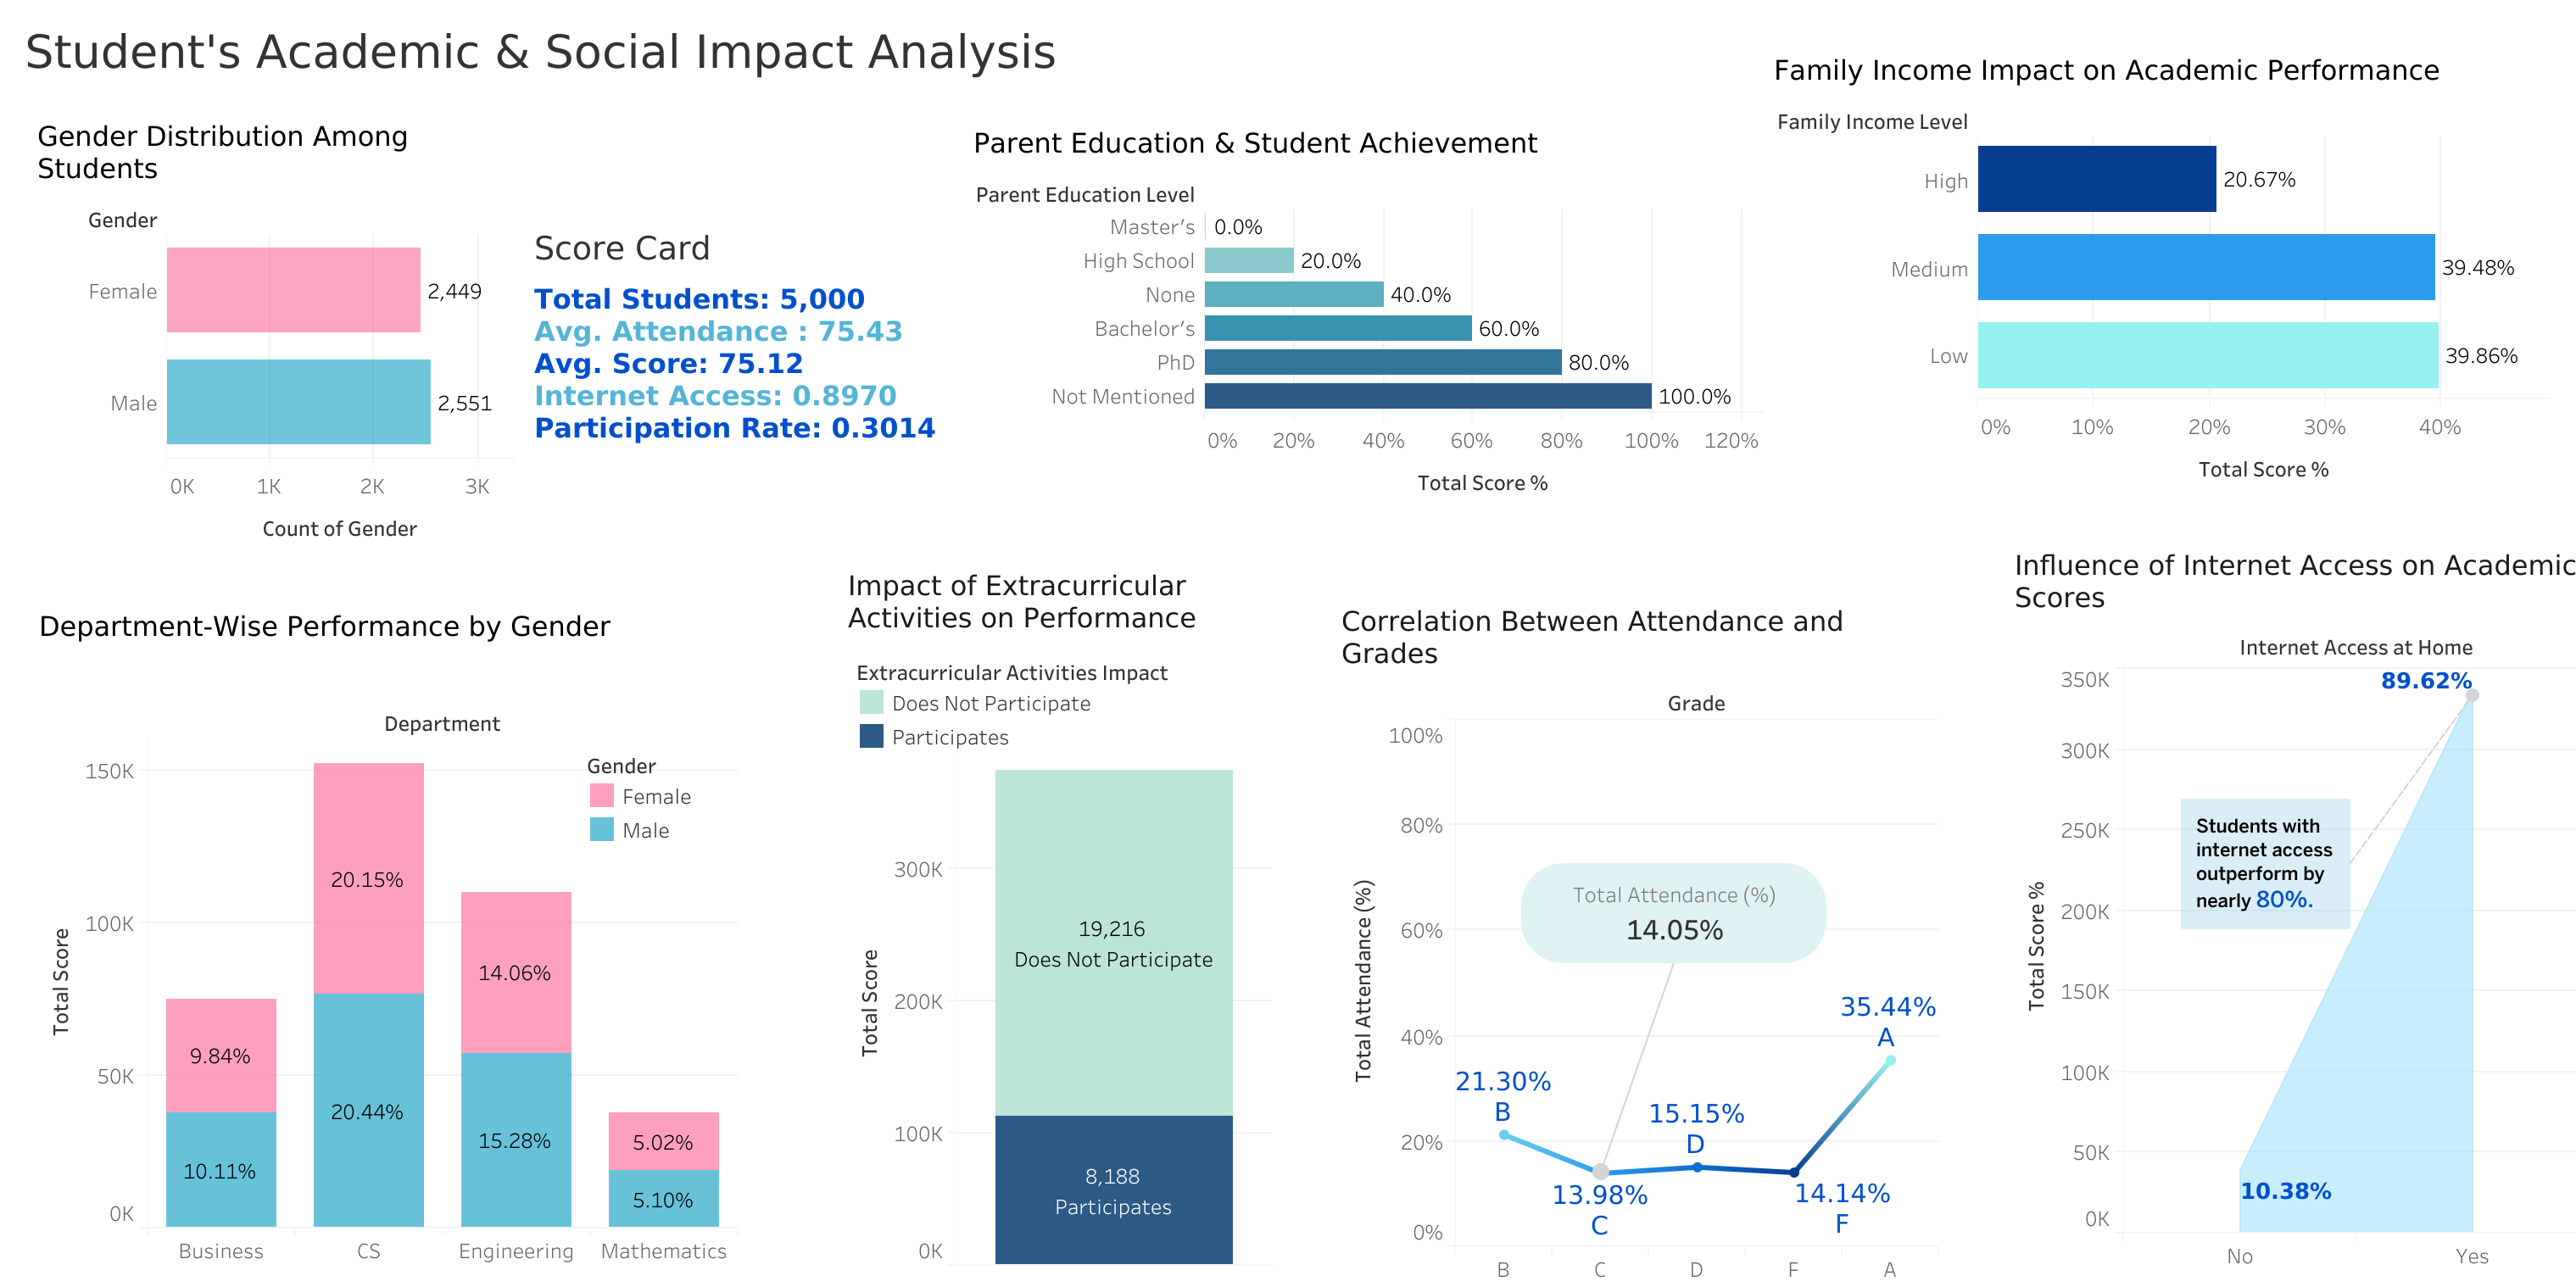

What the dashboard file says about the page in this screenshot:
{"tool":"tableau","page":{"name":"Student's Academic & Social Impact Analysis","canvas":[1000,1000],"units":"permille","ordinal":0},"visuals":[{"type":"title","box":[5.3,10.5,989.5,59.2]},{"type":"worksheet","title":"Sheet 7","mark":"Automatic","rows":["Family_Income_Level"],"box":[685.5,33.8,303.9,349.8]},{"type":"legend","title":"Sheet 7","param":"[federated.0nmx33k1e8lei811wpcea1bsmjyy].[none:Gender:nk]","box":[585.2,53.3,54.2,75.4]},{"type":"worksheet","title":"Sheet 8","mark":"Automatic","rows":["Gender"],"cols":["Gender"],"box":[11.8,85.8,187.5,344.6]},{"type":"worksheet","title":"Sheet 5","mark":"Automatic","rows":["Parent_Education_Level"],"box":[375,91,333.6,331.6]},{"type":"worksheet","title":"Score Card","mark":"Text","box":[204.6,170.3,179.6,267.9]},{"type":"worksheet","title":"Sheet 6","mark":"Area","rows":["Total_Score"],"cols":["Internet_Access_at_Home"],"box":[779,418.7,225.7,567]},{"type":"worksheet","title":"Sheet 3","mark":"Automatic","rows":["Total_Score"],"box":[326.3,434.2,167.1,546.8]},{"type":"worksheet","title":"Sheet 4","mark":"Line","rows":["Attendance (%)"],"cols":["Grade"],"box":[517.8,461.6,234.2,534.5]},{"type":"worksheet","title":"Sheet 2","mark":"Automatic","rows":["Total_Score"],"cols":["Department"],"box":[12.5,465.5,301.3,516.2]},{"type":"legend","title":"Sheet 3","param":"[federated.0nmx33k1e8lei811wpcea1bsmjyy].[none:Calculation_4330211096514478081:n","box":[331.6,507.2,132.9,76.7]},{"type":"legend","title":"Sheet 2","param":"[federated.0nmx33k1e8lei811wpcea1bsmjyy].[none:Gender:nk]","box":[226.8,578.7,69,74.1]}]}

Visuals, with their boxes on the dashboard's canvas, which has no fixed pixel size, in thousandths of its width and height (x1, y1, x2, y2). These are canvas units, not pixel positions in the 2576x1287 screenshot, which may show the page scaled, cropped or inside an application window:
title: bbox(5, 10, 995, 70)
"Sheet 7" worksheet: bbox(686, 34, 989, 384)
"Sheet 7" legend: bbox(585, 53, 639, 129)
"Sheet 8" worksheet: bbox(12, 86, 199, 430)
"Sheet 5" worksheet: bbox(375, 91, 709, 423)
"Score Card" worksheet (Text marks): bbox(205, 170, 384, 438)
"Sheet 6" worksheet (Area marks): bbox(779, 419, 1005, 986)
"Sheet 3" worksheet: bbox(326, 434, 493, 981)
"Sheet 4" worksheet (Line marks): bbox(518, 462, 752, 996)
"Sheet 2" worksheet: bbox(12, 466, 314, 982)
"Sheet 3" legend: bbox(332, 507, 464, 584)
"Sheet 2" legend: bbox(227, 579, 296, 653)
